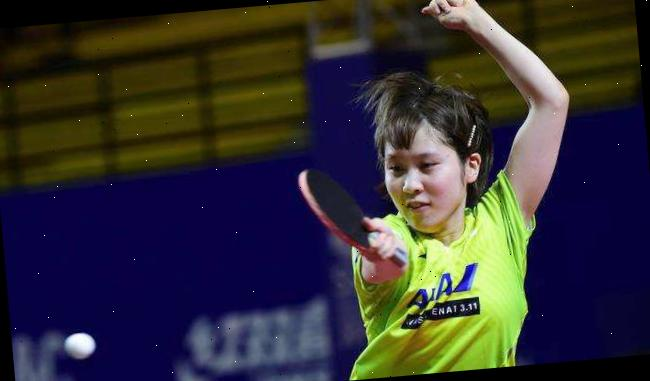ball: (58, 326, 100, 362)
